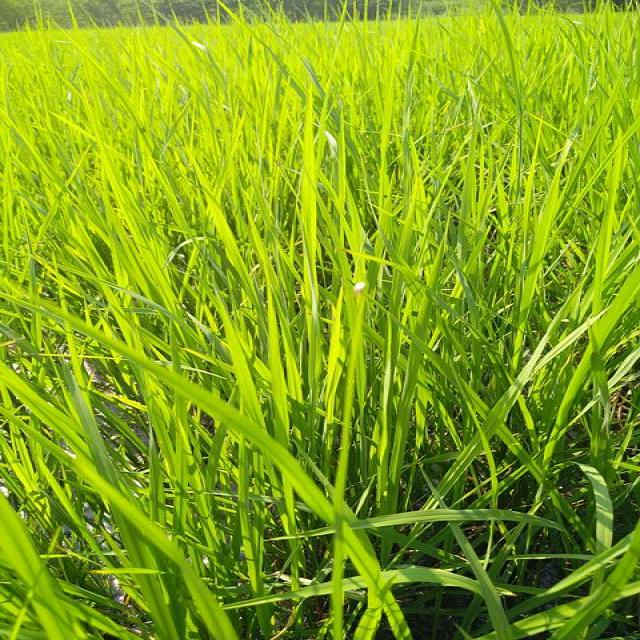Rice: (5, 411, 235, 640), (407, 294, 640, 506), (483, 508, 637, 640), (234, 507, 571, 543), (258, 286, 300, 506), (194, 154, 257, 286), (327, 544, 413, 640), (524, 145, 577, 291), (302, 91, 324, 407), (238, 433, 272, 634), (594, 130, 628, 292), (214, 287, 258, 410), (458, 118, 485, 294), (0, 356, 73, 412)
